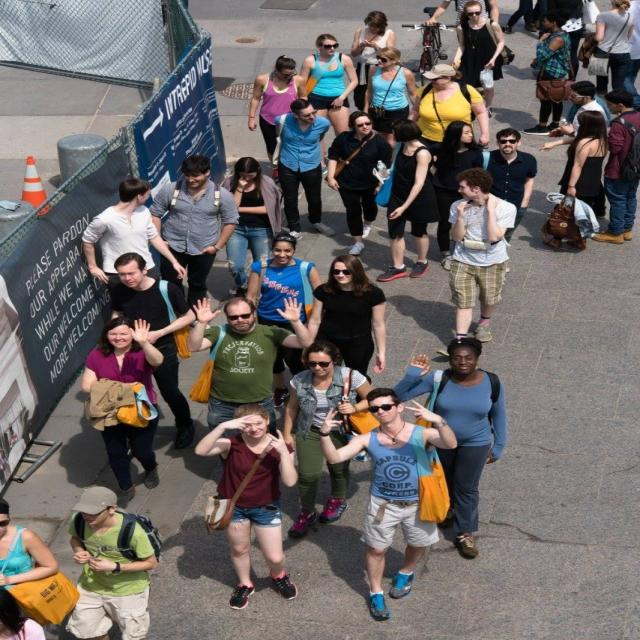body: (316, 386, 462, 622), (390, 336, 512, 560), (153, 512, 411, 608), (190, 400, 304, 613), (284, 190, 562, 272), (280, 338, 384, 542), (182, 292, 315, 439), (106, 250, 199, 452), (143, 153, 241, 337), (78, 314, 168, 512), (61, 484, 165, 640), (242, 232, 324, 409), (80, 177, 189, 300), (304, 252, 391, 405), (446, 167, 518, 342), (534, 108, 612, 253), (373, 115, 438, 283), (0, 497, 81, 628), (324, 110, 396, 257), (218, 154, 288, 300), (268, 98, 339, 240), (476, 127, 540, 274), (298, 32, 361, 175), (430, 119, 486, 272), (586, 87, 639, 245), (246, 54, 309, 184), (406, 63, 492, 156), (520, 8, 579, 138), (451, 0, 514, 120), (577, 0, 637, 119), (362, 45, 418, 163), (448, 0, 502, 98), (384, 291, 478, 344), (349, 9, 397, 111), (488, 62, 550, 138), (534, 0, 586, 82), (553, 80, 611, 139), (0, 584, 49, 640), (624, 0, 638, 108), (502, 0, 537, 37)
